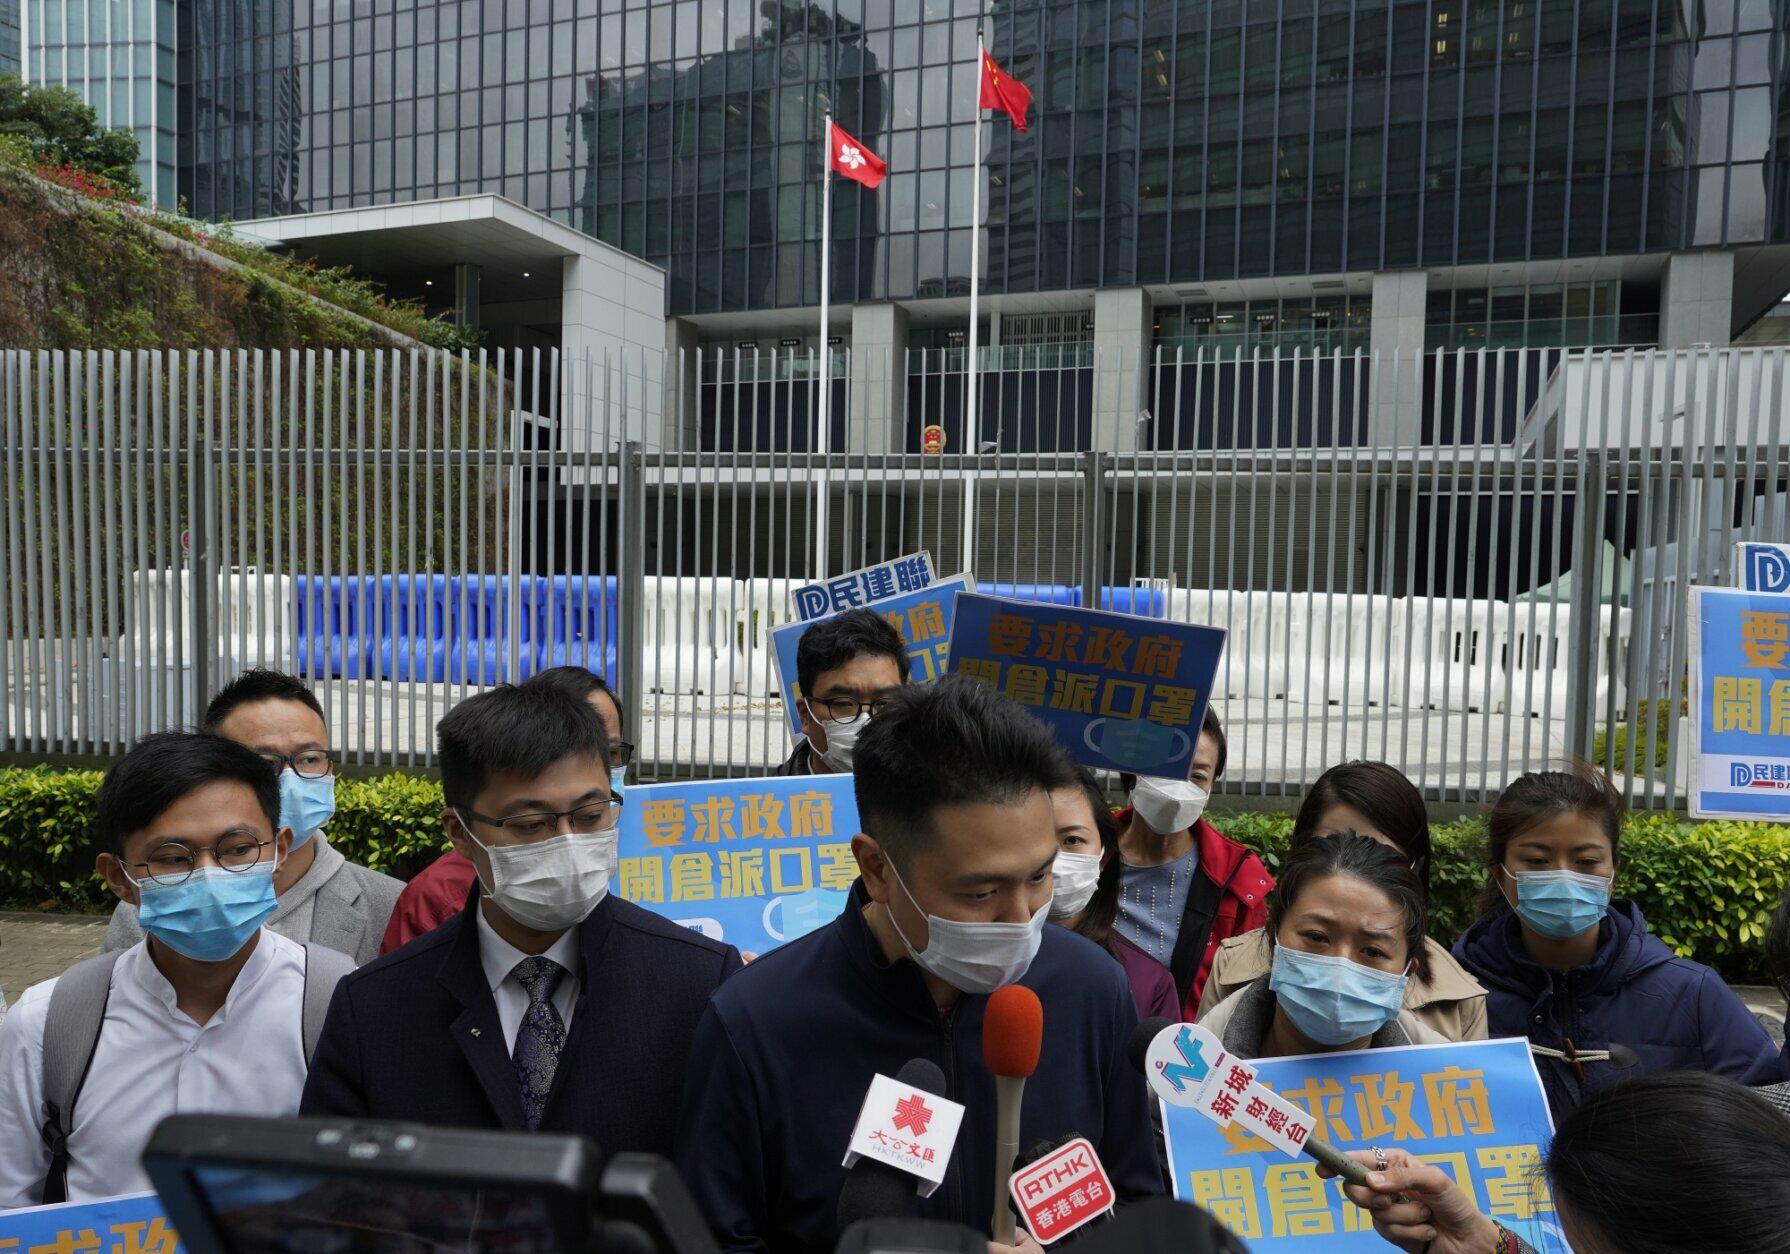mask: (903, 841, 1056, 1005), (126, 820, 277, 967), (476, 782, 620, 929), (1265, 907, 1406, 1049), (223, 737, 331, 865), (1507, 832, 1615, 938), (811, 675, 899, 767), (1129, 753, 1212, 842), (1045, 816, 1104, 928)
